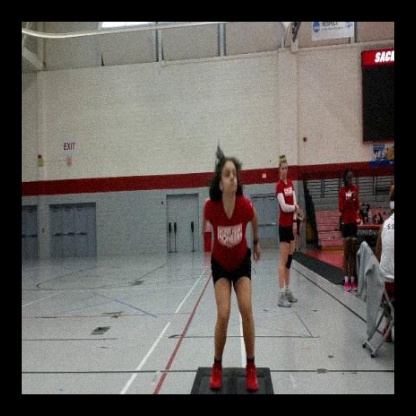lateral_flexion_right: (195, 146, 265, 394)
stance_width_normal: (200, 191, 264, 394)
